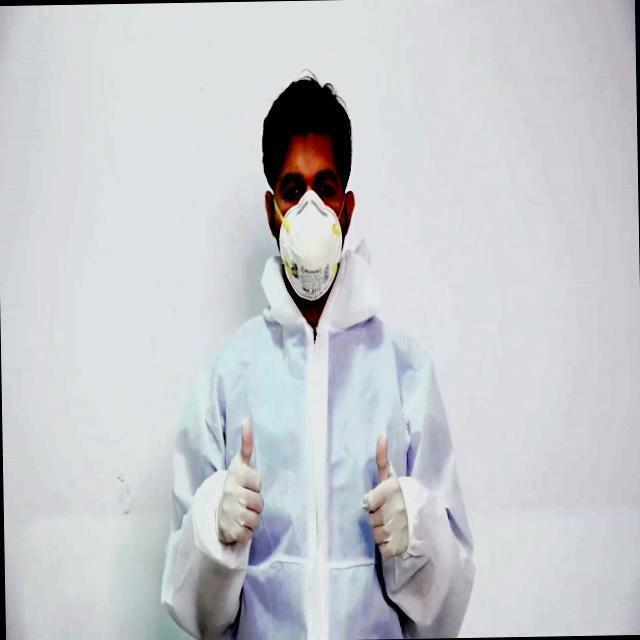apron: (200, 410, 274, 551), (352, 430, 414, 555)
